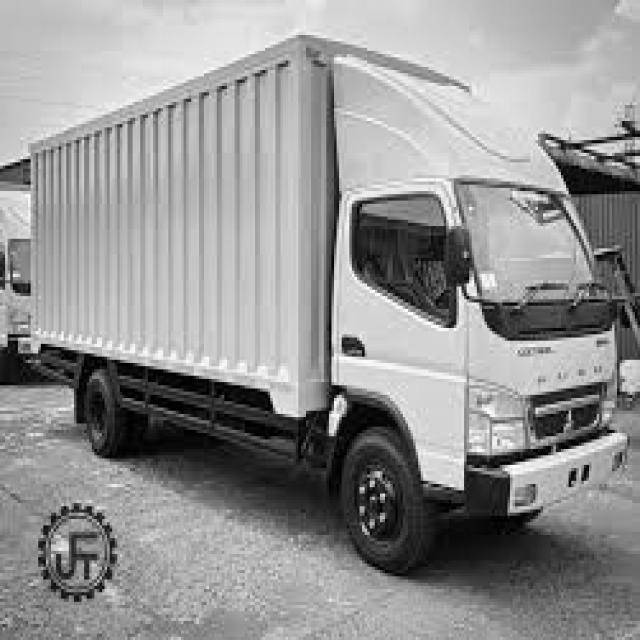truck: (307, 42, 640, 578)
